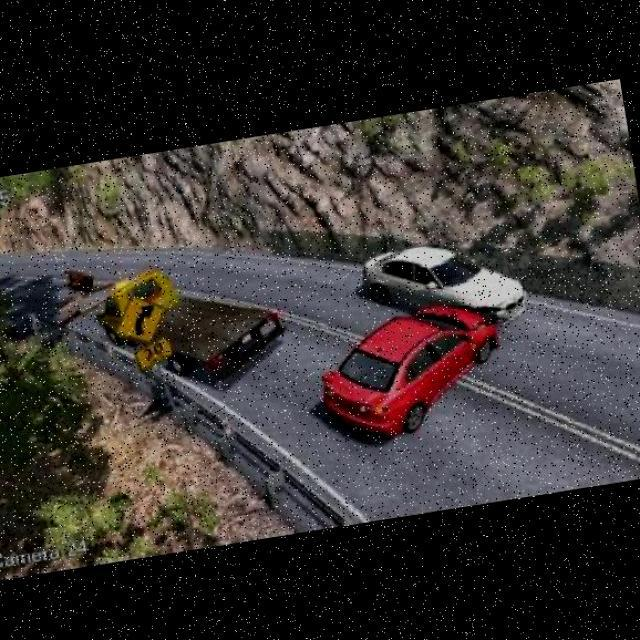accident: (301, 223, 544, 429)
